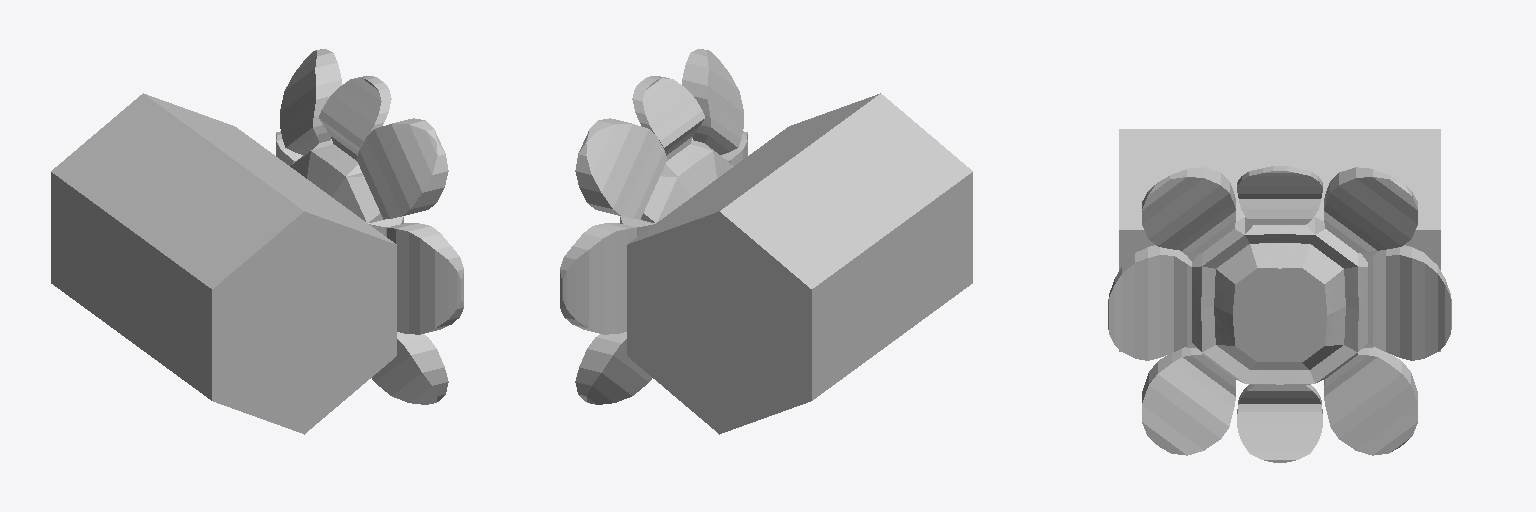
Rendered from vine-whip-segment-flower.obj.
3 renders of one model, left to right at view 1: azimuth 30°, elevation 25°; view 2: azimuth 150°, elevation 25°; view 3: azimuth 270°, elevation 25°, orthographic.
Visible parts, largest first — view 1: Whip.Segment.Flower.001; view 2: Whip.Segment.Flower.001; view 3: Whip.Segment.Flower.001.
Part boxes in pixels (x1,y1,x2,y2): Whip.Segment.Flower.001: (51,49,463,434); Whip.Segment.Flower.001: (560,49,972,434); Whip.Segment.Flower.001: (1108,129,1451,462).
Size of the model in its own units: 0.0818 by 0.0915 by 0.0979.